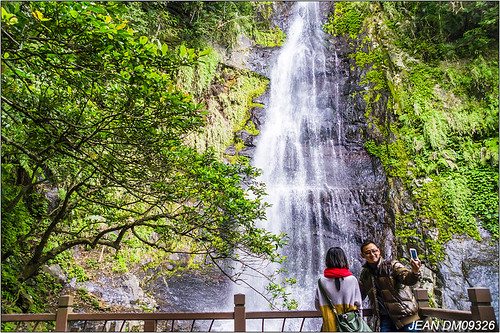wufengciWaterfall: (193, 2, 400, 305)
